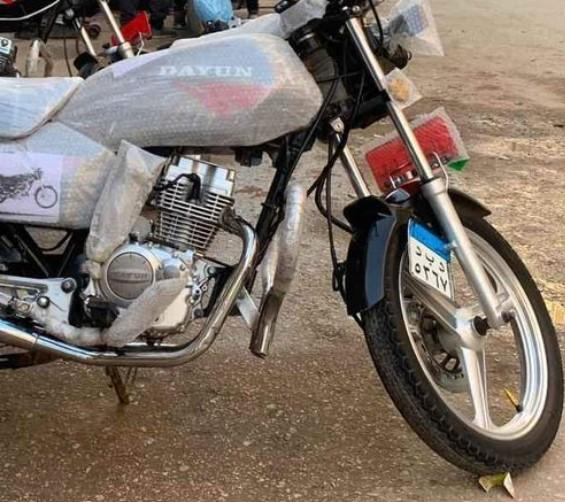License Plate: (405, 220, 451, 286)
